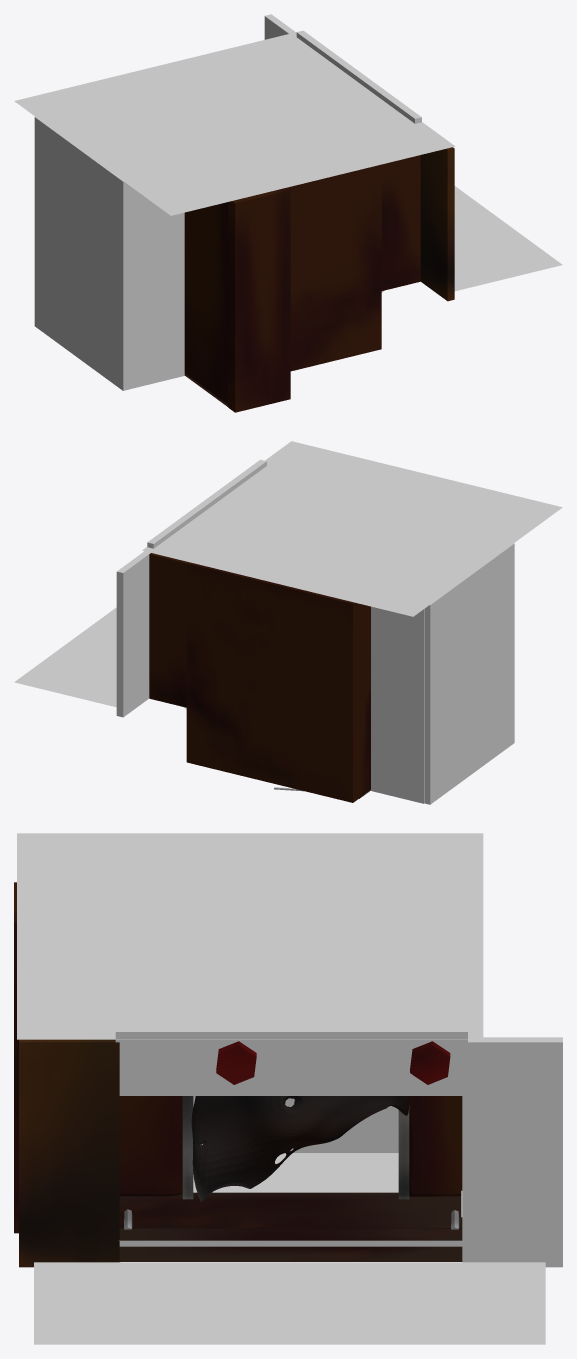
Rendered from Salle de la porte abîmée.fbx.
3 views of the same model, one above another, from view 1: azimuth 30°, elevation 25°; view 2: azimuth 150°, elevation 25°; view 3: azimuth 270°, elevation 25° (orthographic). The views are drawn at different scales.
Visible parts, largest first — view 1: Plafond, Boîte 12, Plan 14, Plan 9, Boîte 3, Plan 4, Plan 5, Plan 16, Plan 17, Plan 19, Plan 7; view 2: Plafond, Plan 13, Boîte 12, Boîte 1, Plan 15, Plan 5, Plan 7, Plan 4, Plan 19; view 3: Plafond, Plan 5, Plan 7, Plan 17, Plan 10, Plan 19, Porte, Plan 4, Sol petite salle, Boîte 12, Plan 18, Encadrement porte (+3 smaller).
Part boxes in pixels (<box>): Plafond: <box>14,32,455,215</box>; Boîte 12: <box>34,116,129,390</box>; Plan 14: <box>288,164,381,371</box>; Plan 9: <box>228,187,290,412</box>; Boîte 3: <box>130,186,184,388</box>; Plan 4: <box>184,202,228,404</box>; Plan 5: <box>454,186,562,291</box>; Plan 16: <box>381,155,420,290</box>; Plan 17: <box>420,147,454,301</box>; Plan 19: <box>296,30,421,123</box>; Plan 7: <box>264,14,295,39</box>; Plafond: <box>142,441,562,616</box>; Plan 13: <box>186,562,359,802</box>; Boîte 12: <box>424,543,514,804</box>; Boîte 1: <box>371,606,424,803</box>; Plan 15: <box>149,553,187,707</box>; Plan 5: <box>14,607,116,707</box>; Plan 7: <box>116,551,150,717</box>; Plan 4: <box>357,603,370,796</box>; Plan 19: <box>147,459,266,548</box>; Plafond: <box>17,833,483,1039</box>; Plan 5: <box>34,1262,545,1344</box>; Plan 7: <box>462,1037,562,1267</box>; Plan 17: <box>19,1039,119,1267</box>; Plan 10: <box>119,1192,462,1261</box>; Plan 19: <box>115,1027,467,1095</box>; Porte: <box>191,1096,409,1201</box>; Plan 4: <box>119,1096,462,1196</box>; Sol petite salle: <box>193,1153,398,1192</box>; Boîte 12: <box>193,1096,398,1153</box>; Plan 18: <box>119,1240,463,1246</box>; Encadrement porte: <box>182,1096,409,1199</box>.
Bounding box in the file's own units: 10.77 × 5.89 × 8.66.
